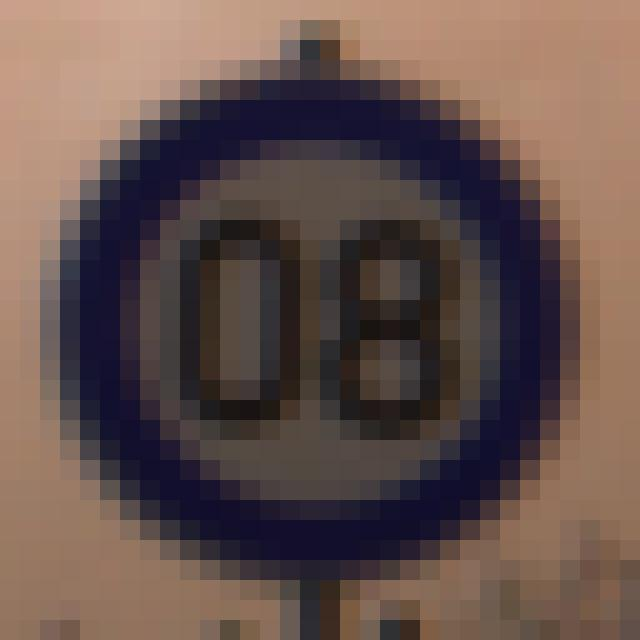SPEED-LIMIT-80: (61, 82, 572, 558)
